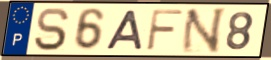6: (73, 7, 107, 53)
8: (225, 10, 255, 51)
A: (103, 9, 145, 52)
F: (144, 8, 186, 53)
N: (179, 6, 229, 55)
S: (32, 6, 72, 52)
